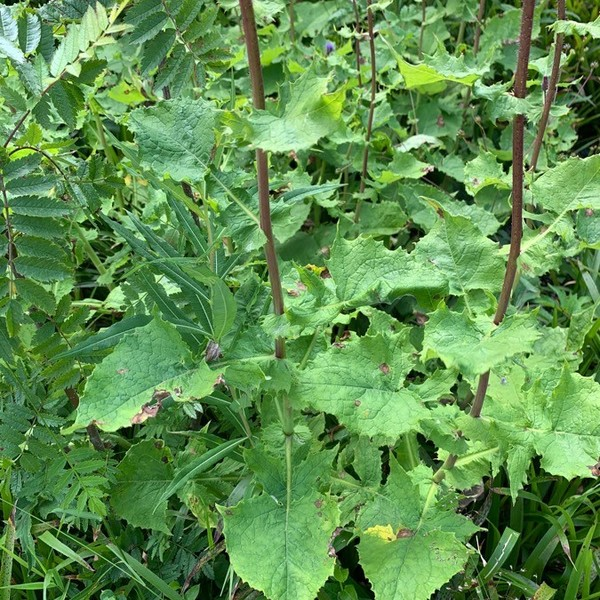obstacle: (116, 109, 552, 553)
